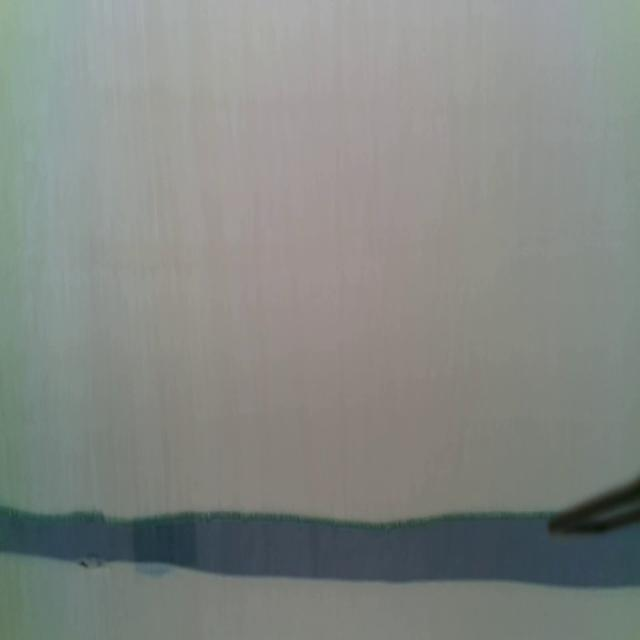color bleeding: (0, 496, 547, 587)
